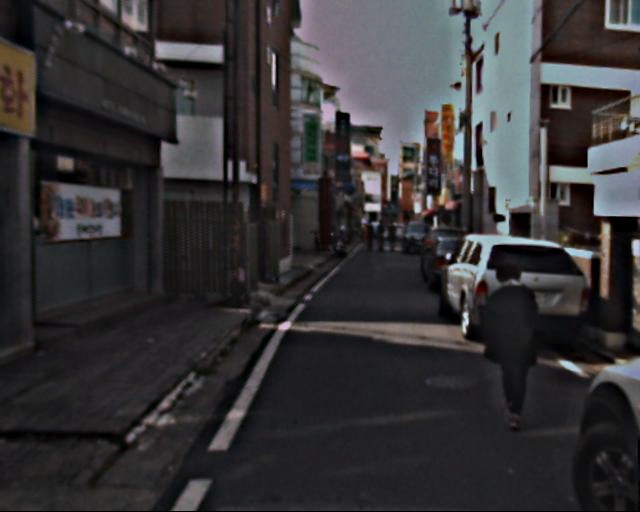person: (473, 261, 546, 435), (367, 218, 400, 255)
